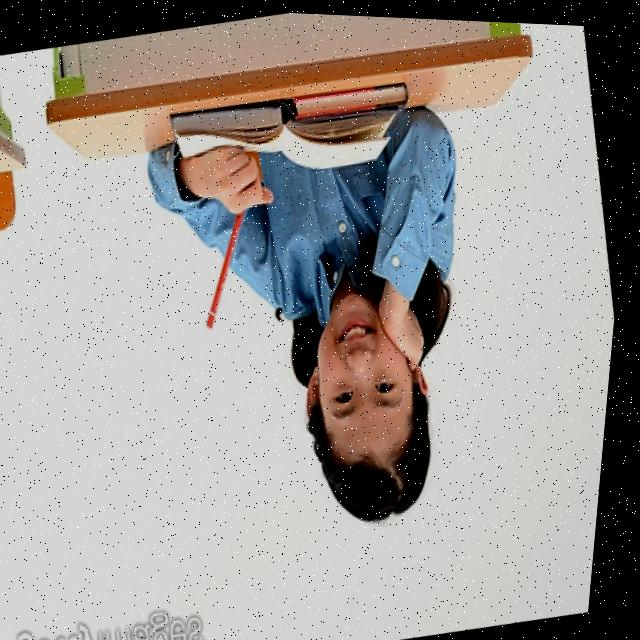studying-person: (97, 50, 549, 573)
